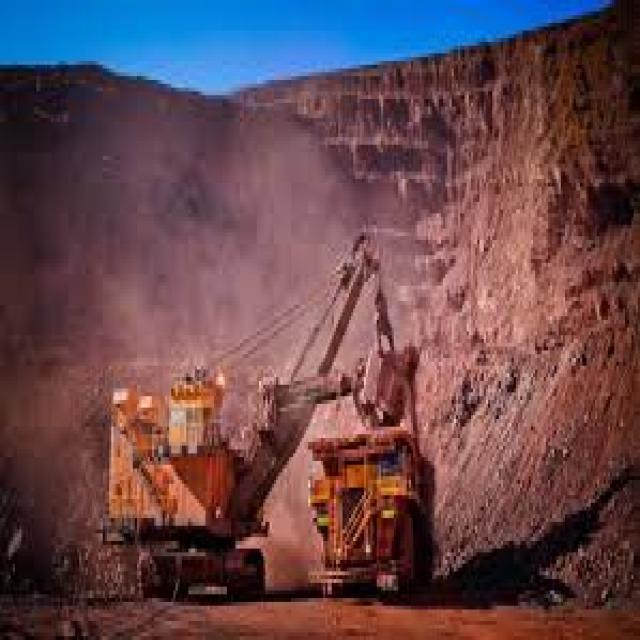dump_truck: (308, 416, 437, 594)
